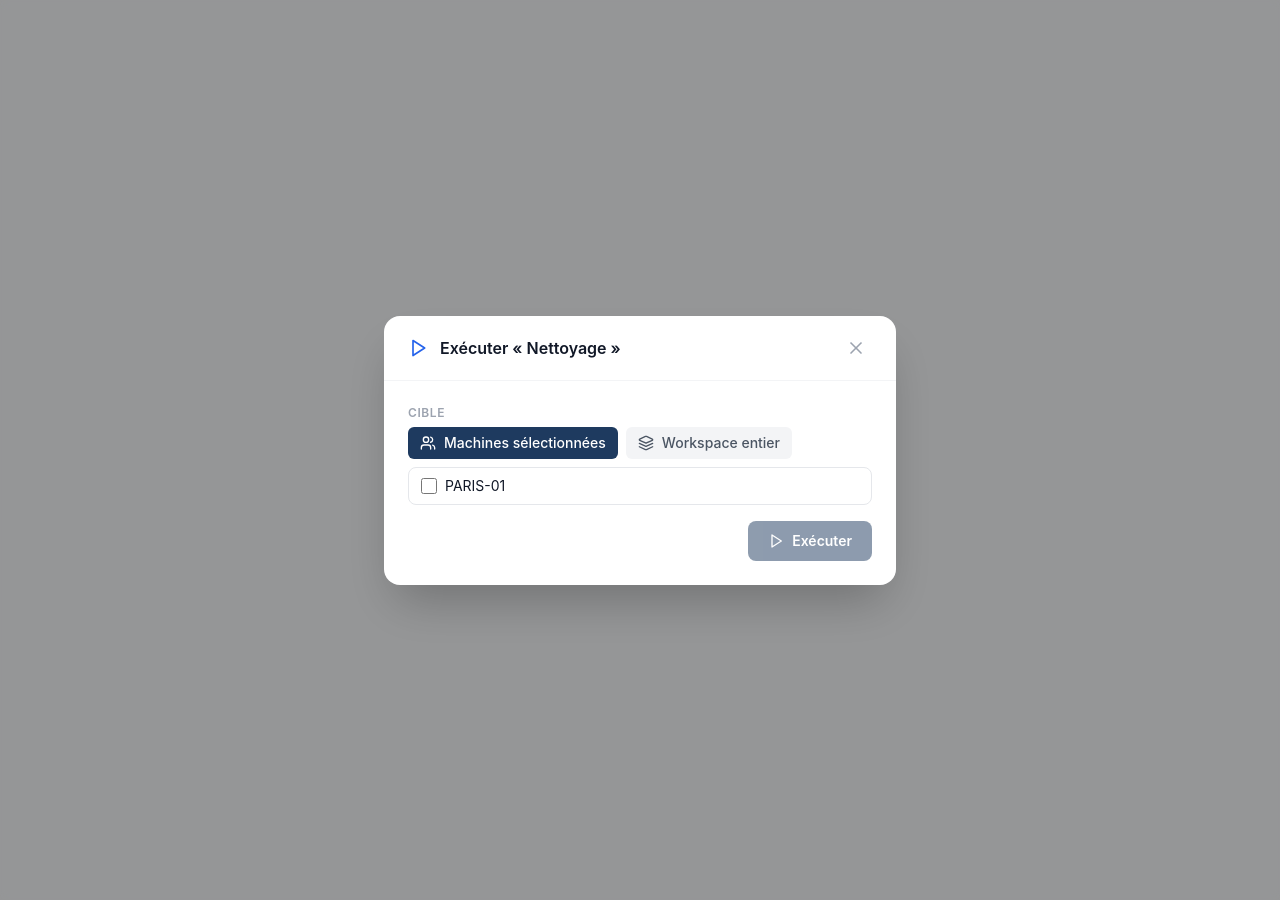
Scenario: RunScriptModal › affiche le résumé d'envoi après succès
The image size is (1280, 900).
What coordinates should you click on to do the following:
click the checkbox
I would click on:
 (429, 486)
Its box is top-left (421, 478), bottom-right (437, 494).
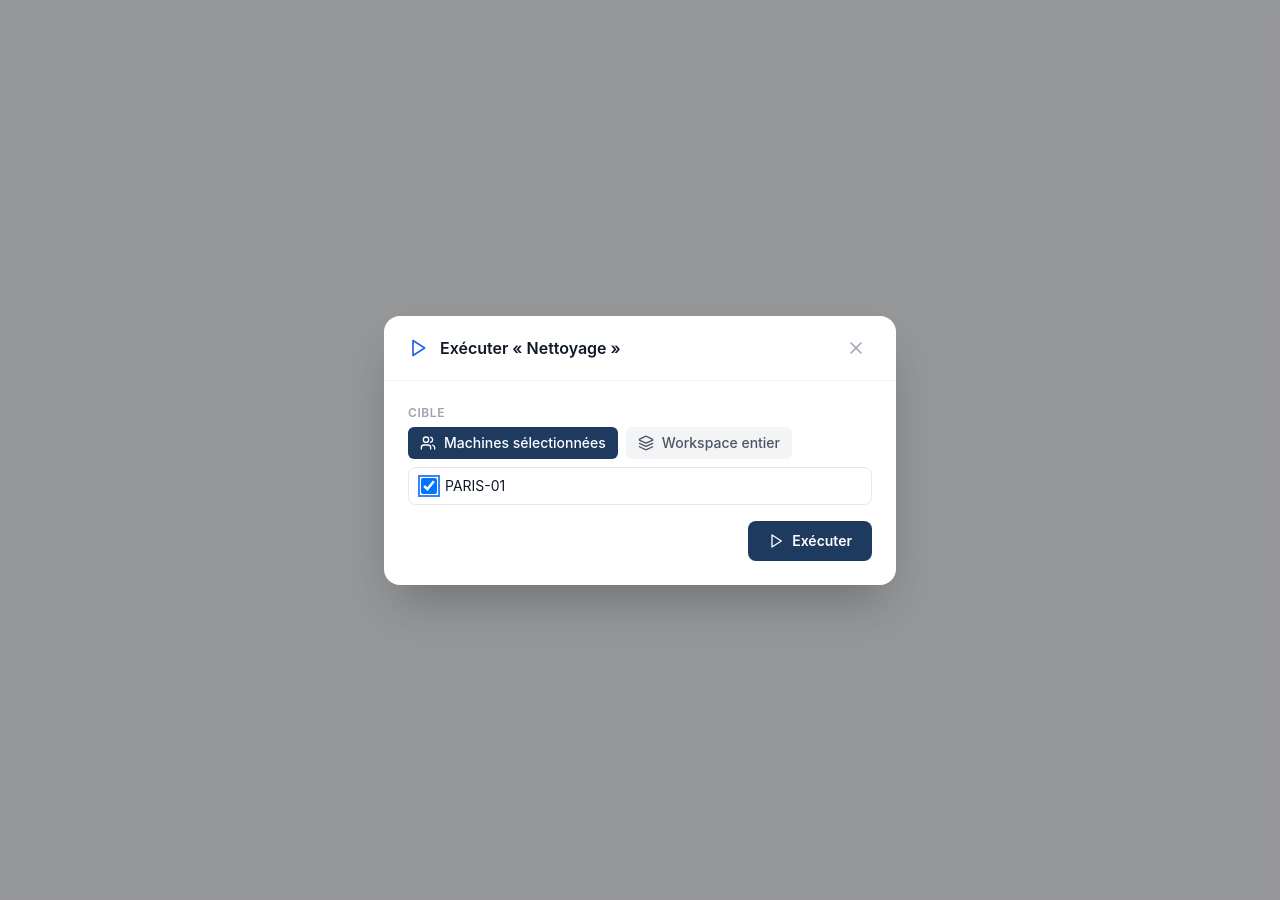
What coordinates should you click on to do the following:
click the button "Exécuter"
I would click on:
 (810, 540)
Its box is top-left (748, 520), bottom-right (872, 560).
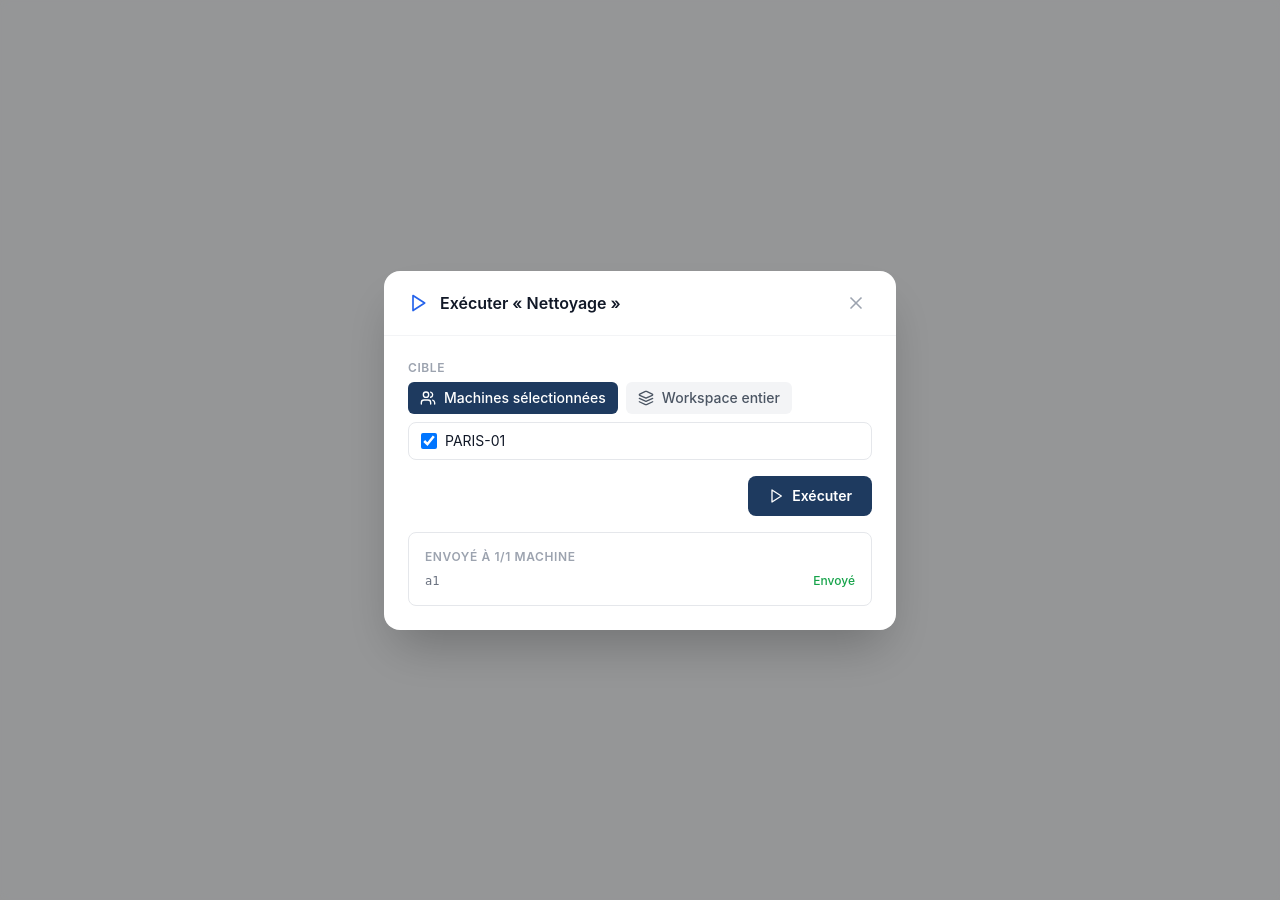
Check: the text "Envoyé à 1/1 machine" is shown, box top-left (425, 548), bottom-right (576, 564)
